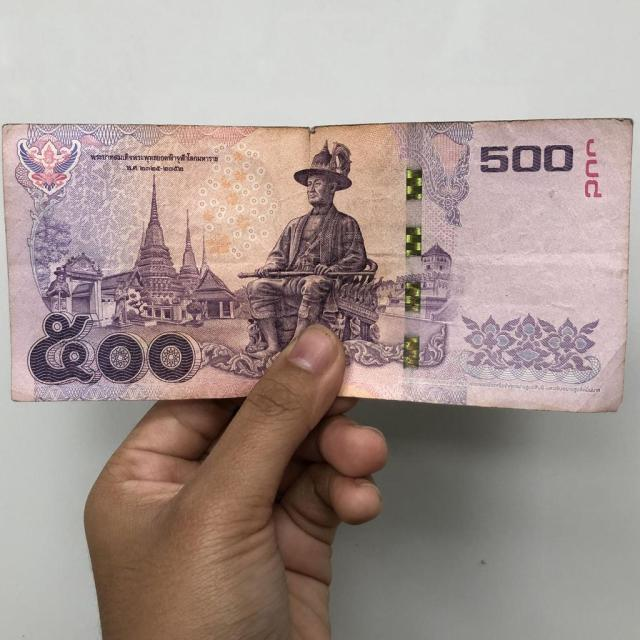THAI500: (2, 119, 633, 412)
